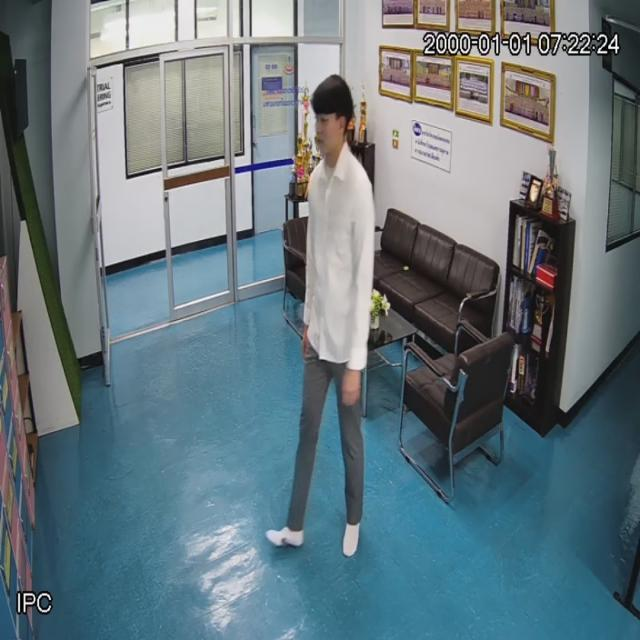normal: (283, 72, 377, 543)
